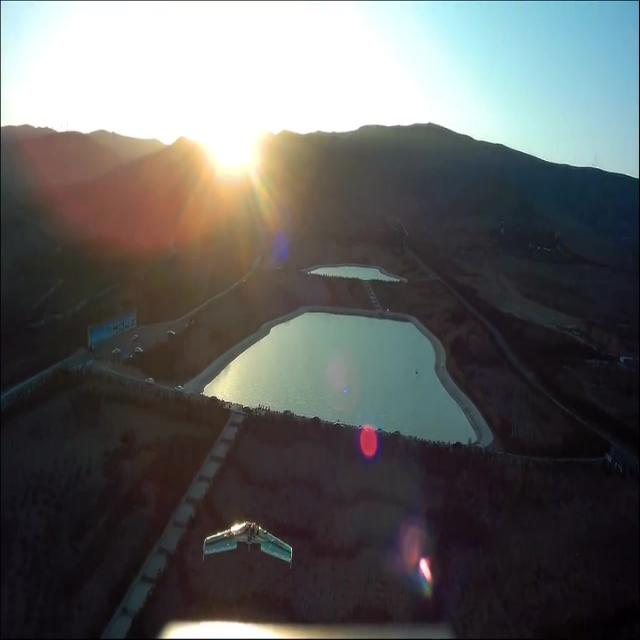iha: (234, 519, 260, 567)
